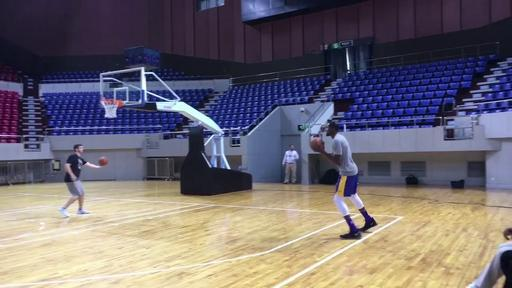ball: (312, 137, 324, 152), (98, 156, 107, 166)
human: (314, 122, 378, 240), (58, 144, 106, 216), (282, 144, 300, 184)
rim: (101, 100, 123, 118)
